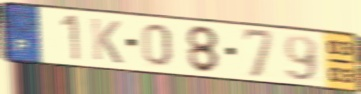0: (139, 22, 177, 69)
1: (59, 14, 82, 63)
7: (240, 26, 276, 81)
8: (184, 24, 222, 75)
9: (283, 33, 323, 82)
K: (88, 16, 125, 66)
